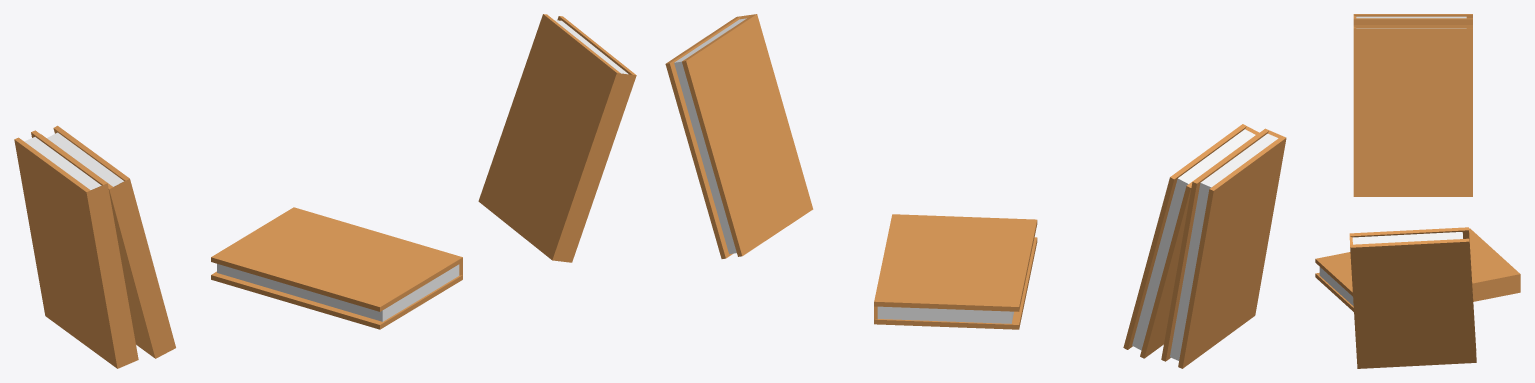
File: books.glb
3 renders of one model, left to right at view 1: azimuth 30°, elevation 25°; view 2: azimuth 150°, elevation 25°; view 3: azimuth 270°, elevation 25°, orthographic. The views are drawn at different scales.
Parts seen in each view (by area): view 1: livres; view 2: livres; view 3: livres.
Part boxes in pixels (x1,y1,x2,y2): livres: (14, 14, 636, 368); livres: (665, 14, 1286, 368); livres: (1315, 14, 1520, 368).
Size of the model in its own units: 0.981 by 0.3339 by 0.3847.
